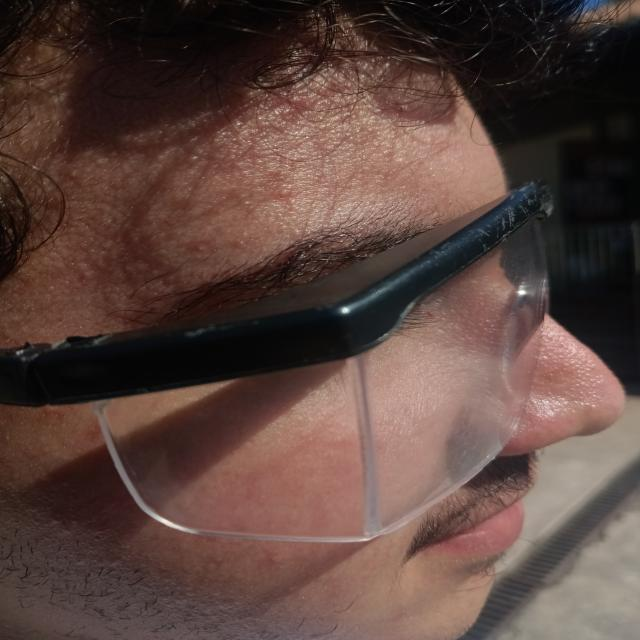oculos-epi: (0, 180, 563, 547)
